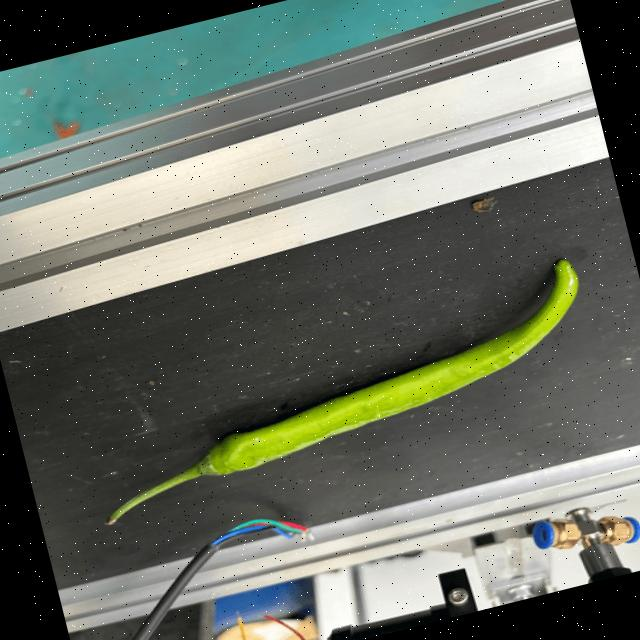chili: (193, 254, 582, 475)
